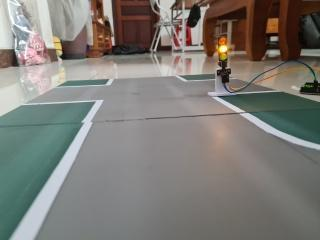yellow: (211, 26, 241, 71)
